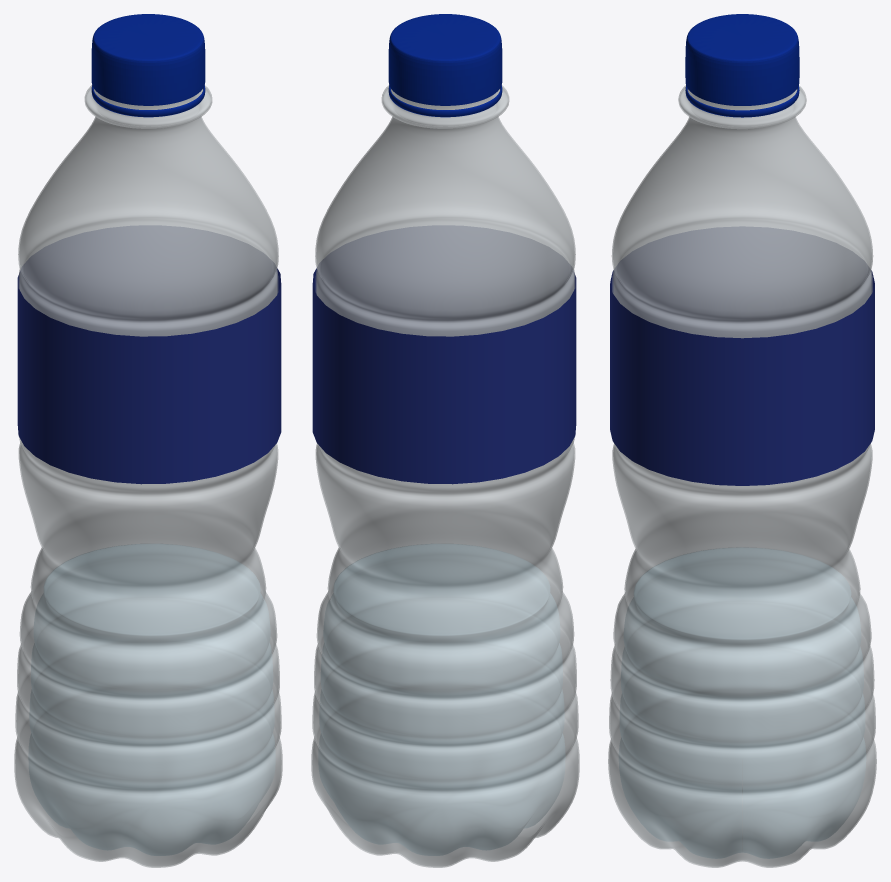
Rendered from plasticBottle.fbx.
3 views of the same model, side by side, from view 1: azimuth 30°, elevation 25°; view 2: azimuth 150°, elevation 25°; view 3: azimuth 270°, elevation 25° (orthographic).
Visible parts, largest first — view 1: bottle, water_inside, label, cap, cap2; view 2: bottle, water_inside, label, cap, cap2; view 3: bottle, water_inside, label, cap, cap2.
Part boxes in pixels (left/top/right/bottom): bottle: left=14, top=85, right=282, bottom=867; water_inside: left=28, top=544, right=275, bottom=855; label: left=17, top=267, right=281, bottom=484; cap: left=91, top=14, right=205, bottom=105; cap2: left=91, top=85, right=205, bottom=117; bottle: left=311, top=85, right=579, bottom=867; water_inside: left=318, top=544, right=565, bottom=855; label: left=312, top=267, right=576, bottom=484; cap: left=388, top=14, right=502, bottom=105; cap2: left=388, top=85, right=502, bottom=117; bottle: left=608, top=85, right=876, bottom=867; water_inside: left=619, top=547, right=865, bottom=858; label: left=610, top=270, right=874, bottom=485; cap: left=685, top=14, right=799, bottom=105; cap2: left=685, top=85, right=799, bottom=117.
Size of the model in its own units: 6.43 by 20.95 by 6.43.
